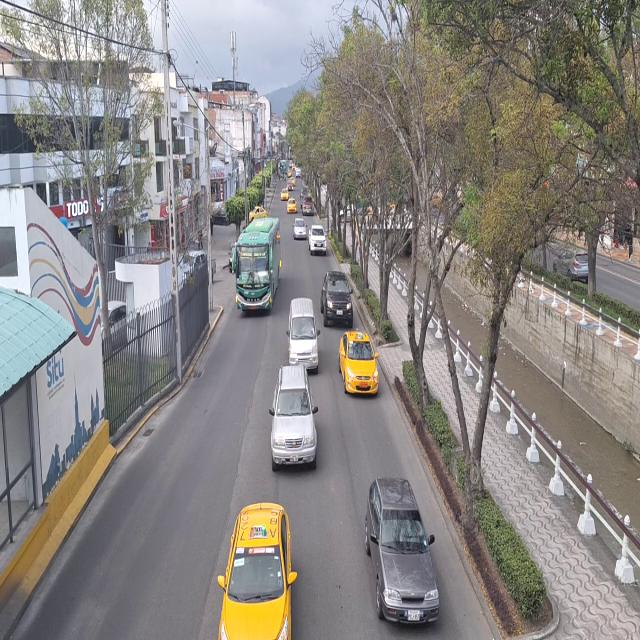BUS: (235, 222, 279, 313)
